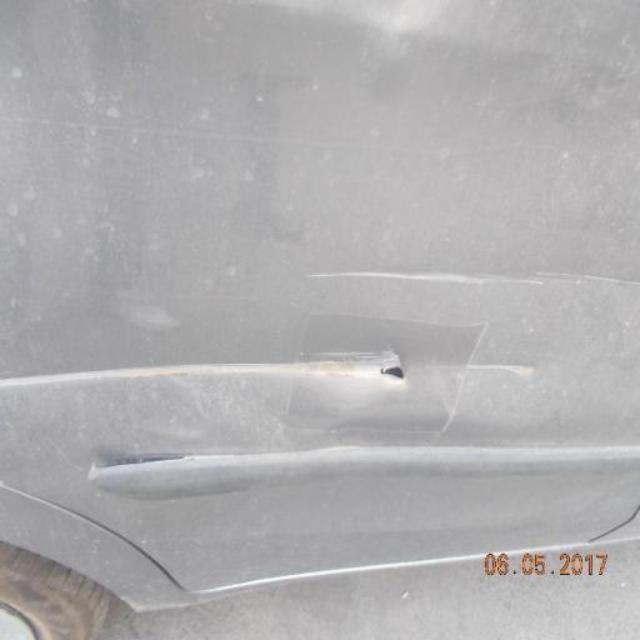crack: (382, 362, 411, 387)
scratch: (2, 339, 418, 401), (305, 263, 640, 295), (430, 352, 541, 383)
